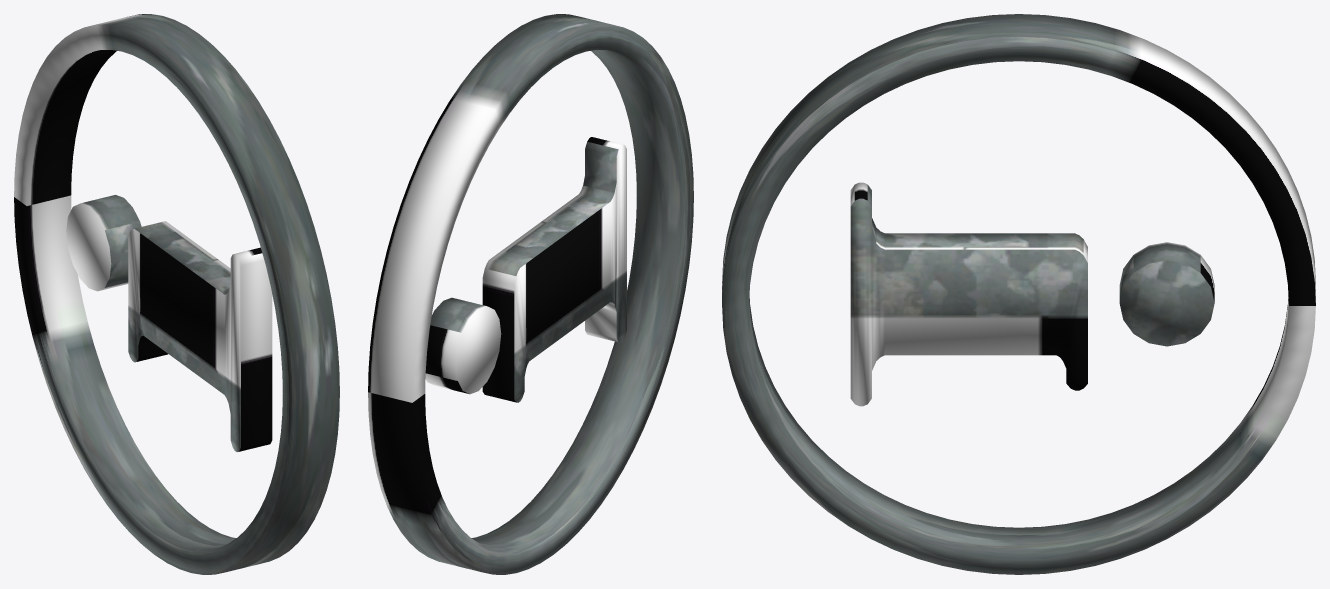
The model's file is Info.fbx.
3 views of the same model, side by side, from view 1: azimuth 30°, elevation 25°; view 2: azimuth 150°, elevation 25°; view 3: azimuth 270°, elevation 25° (orthographic). The views are drawn at different scales.
Parts seen in each view (by area): view 1: info; view 2: info; view 3: info.
Part boxes in pixels (x1,y1,x2,y2): info: [14, 14, 339, 574]; info: [368, 14, 693, 574]; info: [722, 14, 1315, 574].
Bounding box in the file's own units: 0.0674 × 0.7419 × 0.7419.
